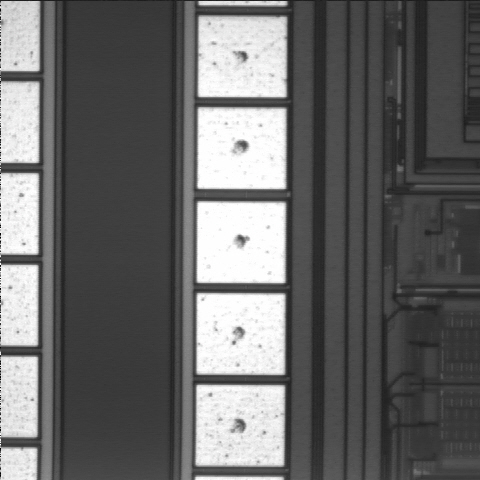pad: (197, 107, 286, 189), (197, 201, 286, 283), (197, 293, 285, 375), (198, 16, 287, 97), (196, 385, 285, 466)
